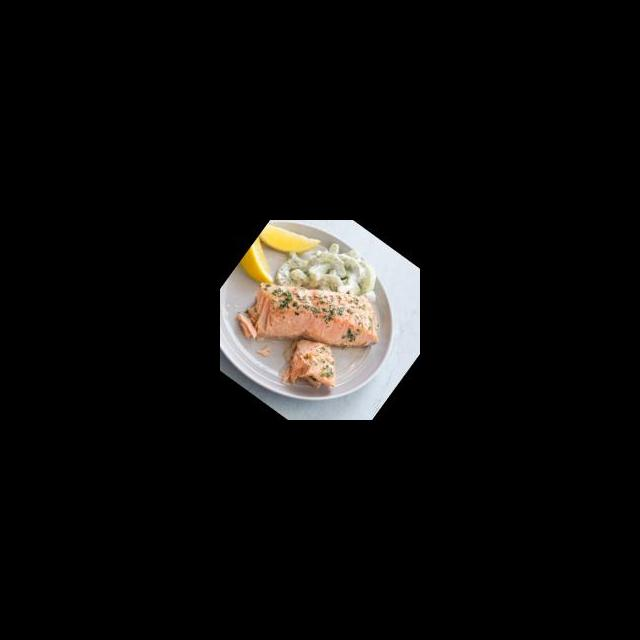ca hoi: (226, 240, 396, 404), (270, 326, 353, 409)
